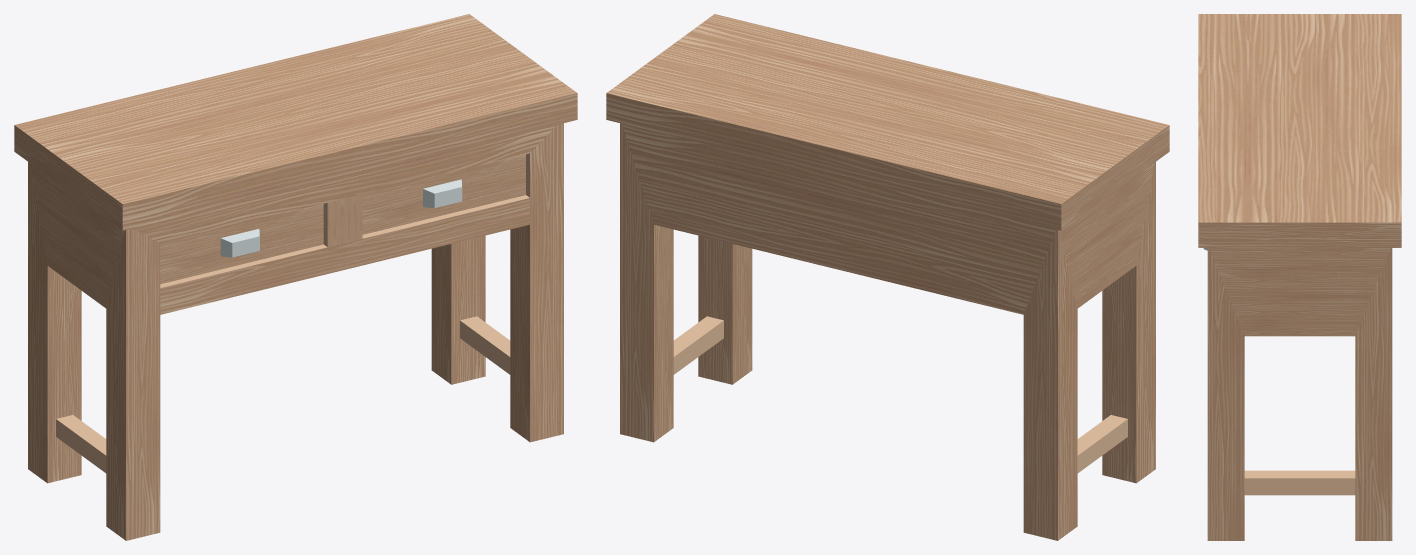
The model's file is scrivania-texture.glb.
The picture shows the model from 3 angles, left to right: view 1: azimuth 30°, elevation 25°; view 2: azimuth 150°, elevation 25°; view 3: azimuth 270°, elevation 25°; orthographic projection. The views are drawn at different scales.
Parts seen in each view (by area): view 1: scrivania; view 2: scrivania; view 3: scrivania.
Boxes of the visible parts, box(x1,y1,x2,y2) form: scrivania: box(14, 14, 577, 540); scrivania: box(606, 14, 1169, 540); scrivania: box(1198, 14, 1401, 540).
Bounding box in the file's own units: 0.5345 × 0.3844 × 0.22.
Materials: 3 (1 with a texture image).
